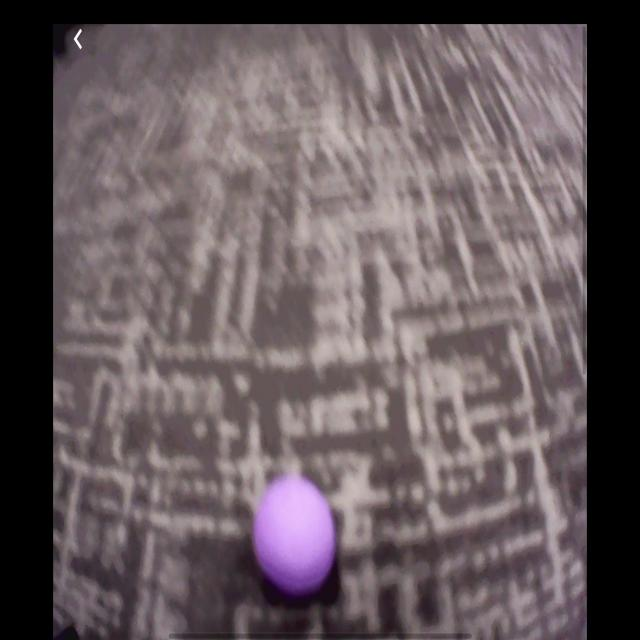ball: (254, 478, 336, 595)
